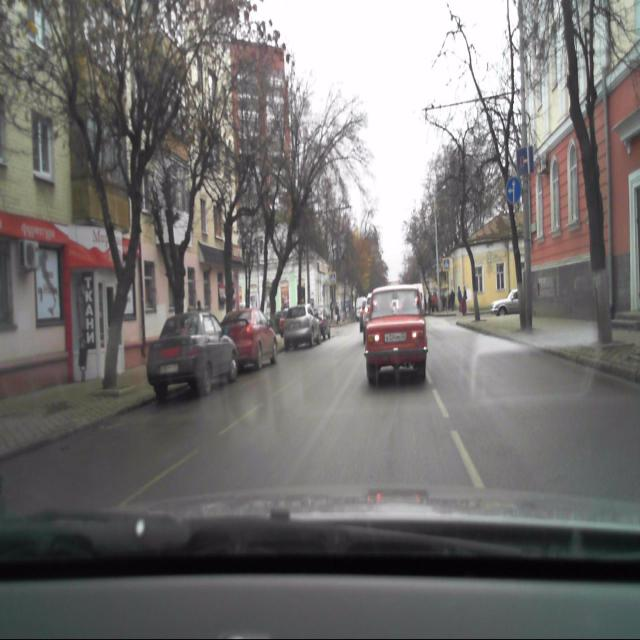road sign: (516, 144, 534, 173), (441, 255, 450, 272), (328, 270, 337, 286)
